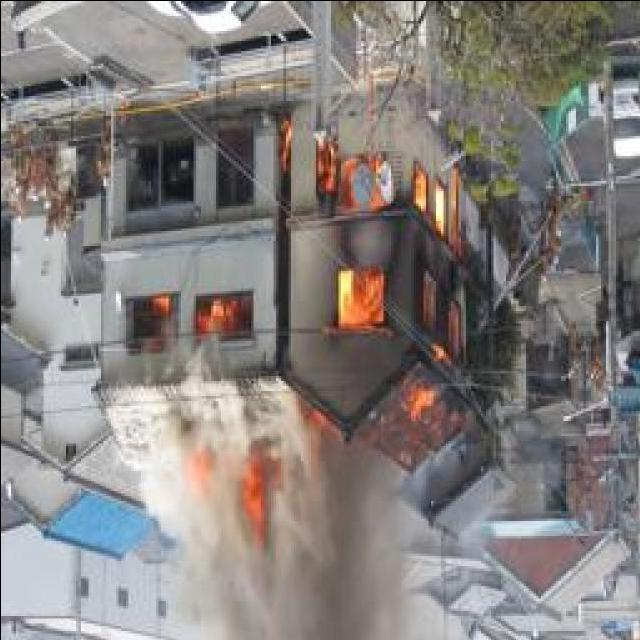Fire: (308, 126, 457, 443), (184, 438, 280, 516), (116, 290, 254, 336)
